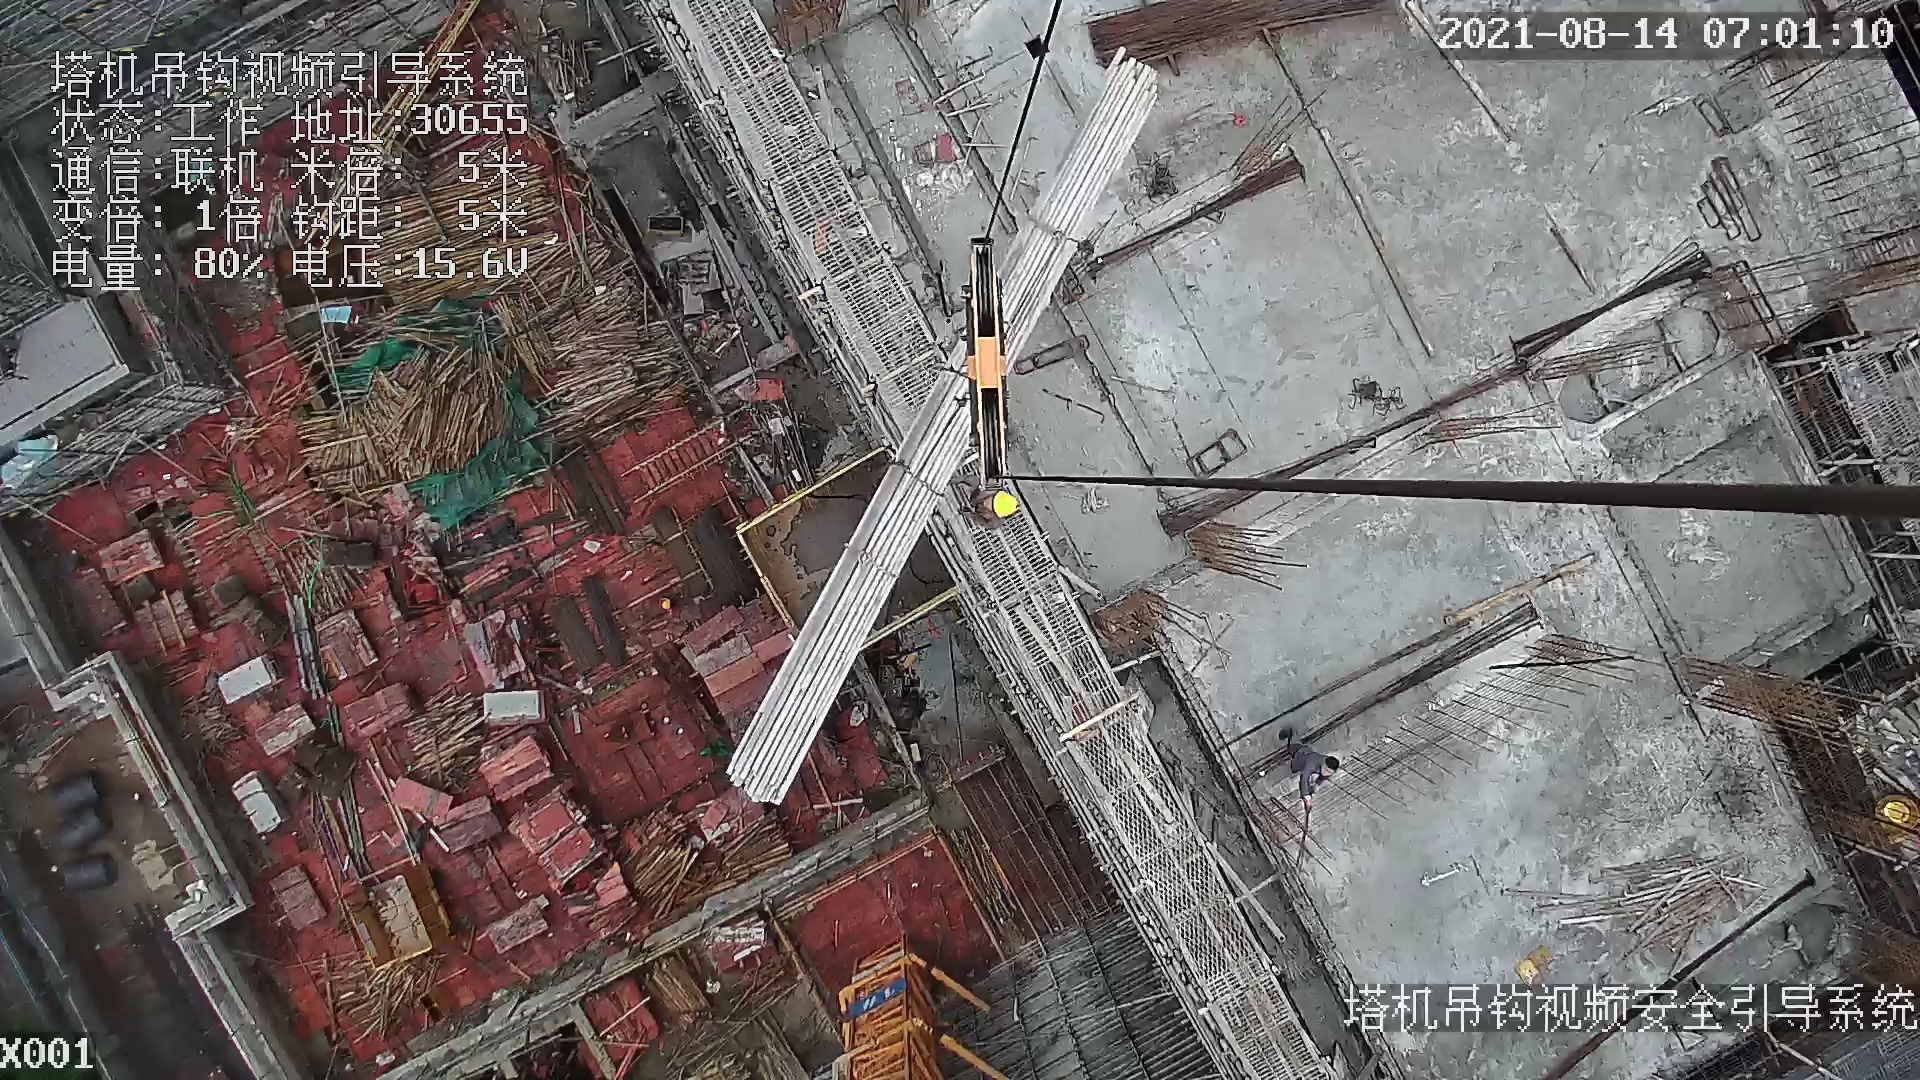helmet: (988, 488, 1024, 524)
hook: (951, 232, 1022, 499)
person: (1278, 731, 1342, 813), (955, 473, 1015, 531)
